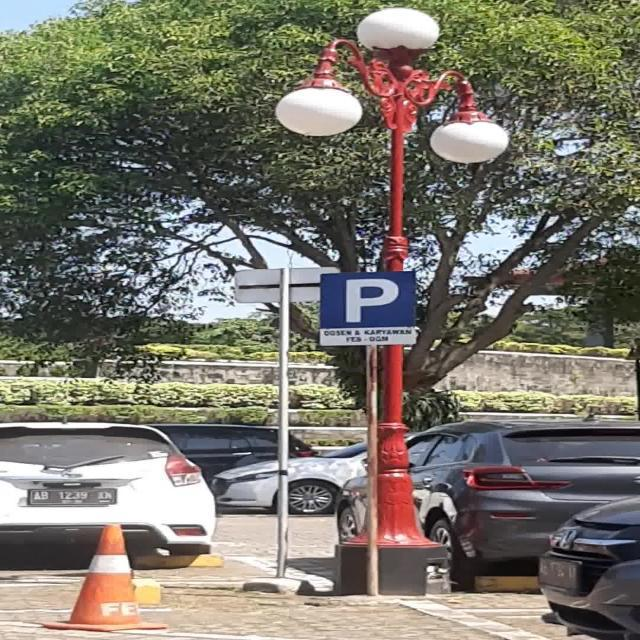Tempat Parkir: (319, 271, 416, 346)
